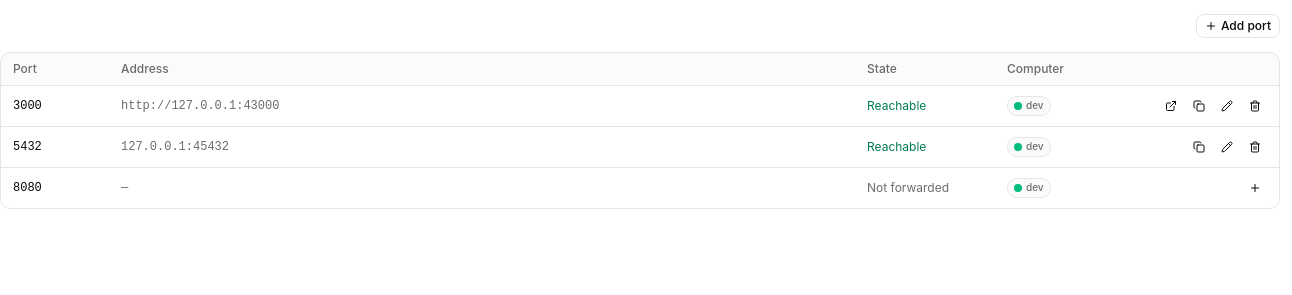
Test: adds inside the table and replaces the edited row
Click the button "Add port": (1238, 26) [1196,14,1280,38]
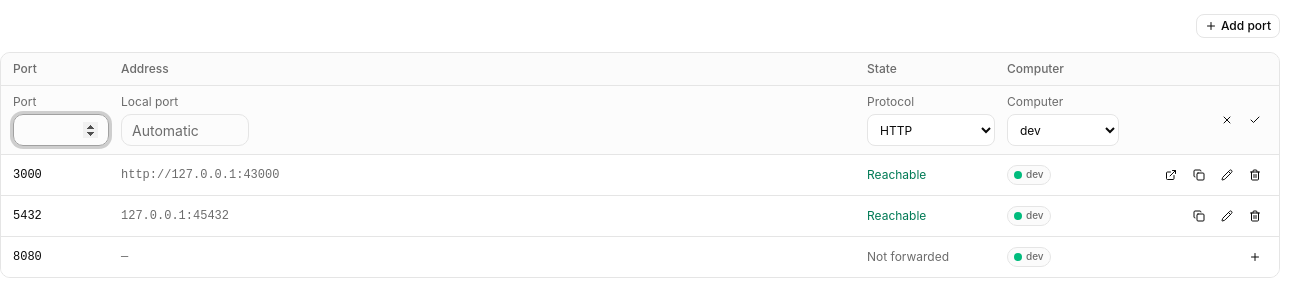
Expected: the row named "New port" is shown, [1,86,1279,155]
Press Escape
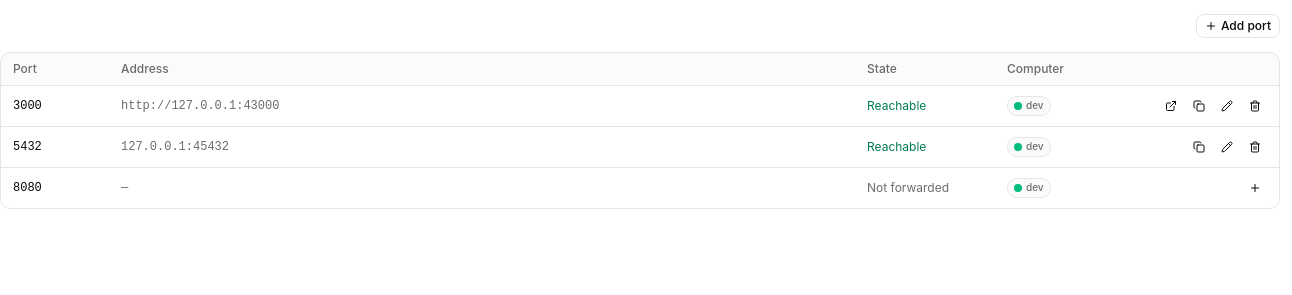
Expected: the number field labelled "New port" is gone
Click the button named "Edit port 3000 from dev": (1227, 106) [1215,94,1239,118]
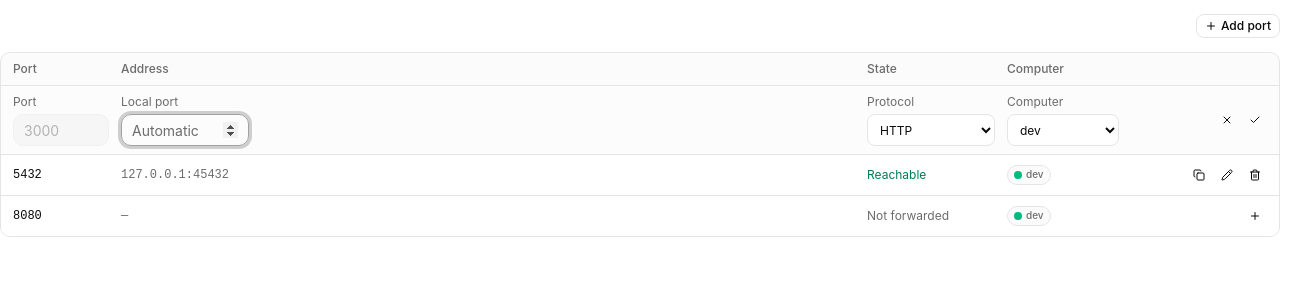
Expected: the row named "Edit port" is shown, [1,86,1279,155]
Expected: the text "http://127.0.0.1:43000" is gone
Click the button named "Cancel": (1227, 120) [1215,108,1239,132]
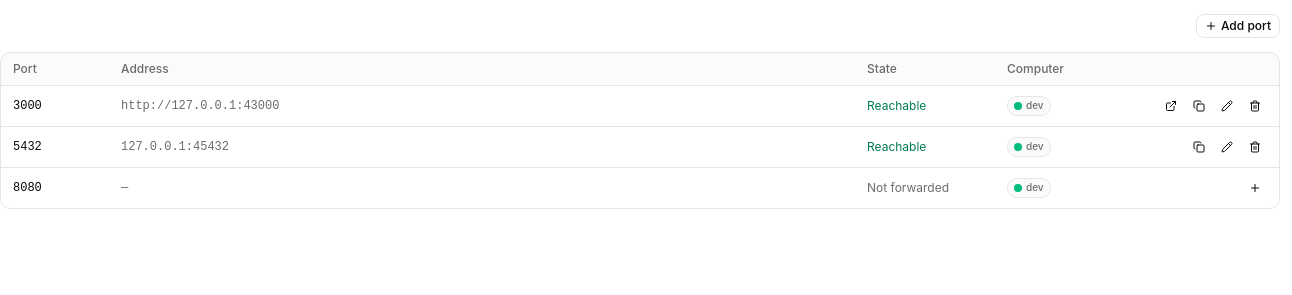
Expected: the text "http://127.0.0.1:43000" is shown, [121,99,279,113]
